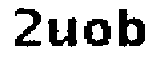2: (10, 3, 44, 51)
b: (118, 6, 147, 52)
o: (83, 16, 113, 52)
u: (45, 15, 81, 51)
